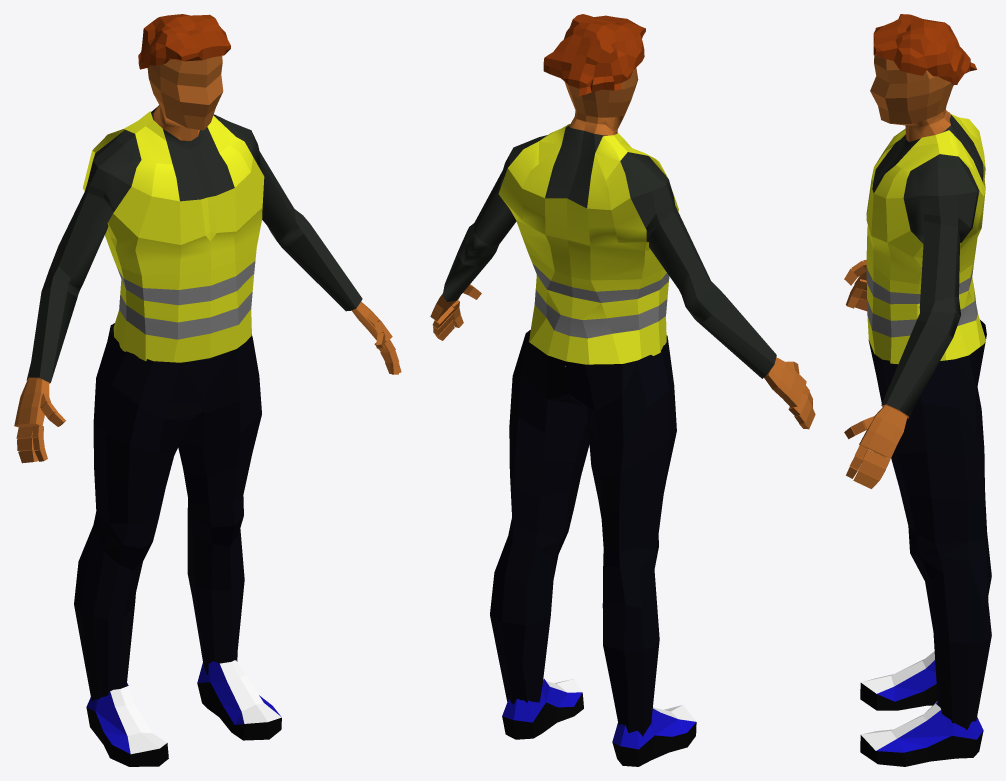
File: NPC_2.obj
3 renders of one model, left to right at view 1: azimuth 30°, elevation 25°; view 2: azimuth 150°, elevation 25°; view 3: azimuth 270°, elevation 25°, orthographic.
Visible parts, largest first — view 1: Pants, Jacket, Reduced_Body, Shoes, Sphere; view 2: Pants, Jacket, Reduced_Body, Shoes, Sphere; view 3: Pants, Reduced_Body, Jacket, Shoes, Sphere.
Part boxes in pixels (x1,y1,x2,y2): Pants: (74, 323, 261, 701); Jacket: (83, 111, 264, 362); Reduced_Body: (14, 56, 401, 463); Shoes: (86, 660, 281, 766); Sphere: (138, 14, 230, 69); Pants: (490, 330, 676, 736); Jacket: (498, 124, 678, 366); Reduced_Body: (430, 68, 815, 429); Shoes: (502, 678, 696, 766); Sphere: (543, 14, 645, 95); Pants: (868, 320, 991, 729); Reduced_Body: (844, 55, 983, 488); Jacket: (866, 112, 985, 364); Shoes: (860, 651, 983, 766); Sphere: (873, 14, 976, 84).
Bounding box in the file's own units: 2.84 × 5.2 × 0.988.
